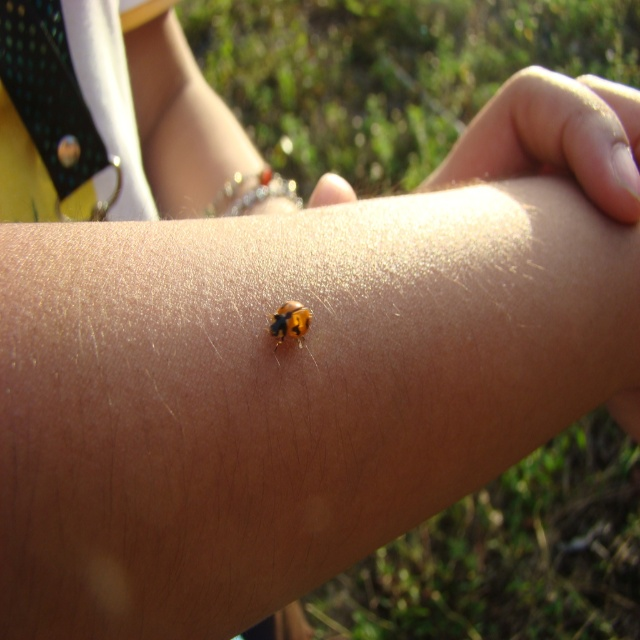Ladybug: (265, 300, 310, 354)
